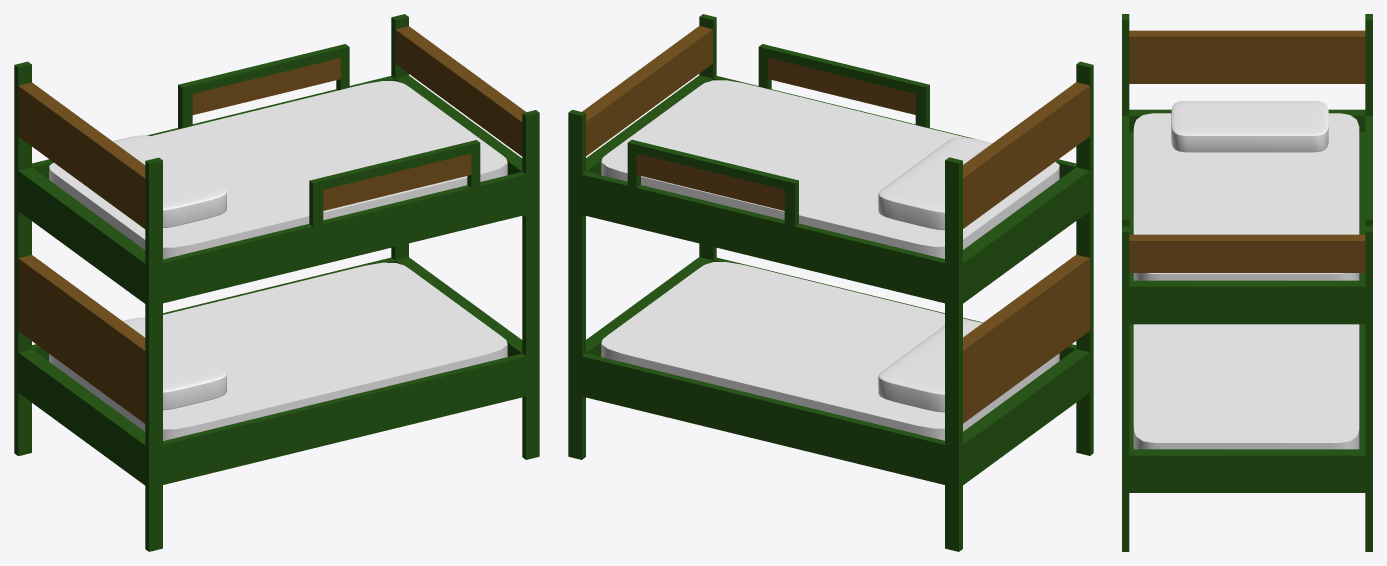
Rendered from bunk.fbx.
3 renders of one model, left to right at view 1: azimuth 30°, elevation 25°; view 2: azimuth 150°, elevation 25°; view 3: azimuth 270°, elevation 25°, orthographic. The views are drawn at different scales.
Parts seen in each view (by area): view 1: Cube.003; view 2: Cube.003; view 3: Cube.003.
Boxes of the visible parts, x1,y1,x2,y2 form: Cube.003: (14, 14, 539, 551); Cube.003: (568, 14, 1093, 551); Cube.003: (1122, 14, 1372, 551).
Size of the model in its own units: 672 by 638 by 402.
